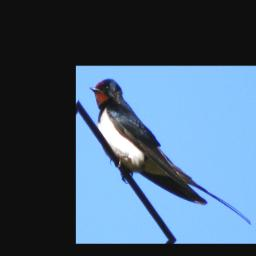Swallow: (86, 77, 256, 227)
